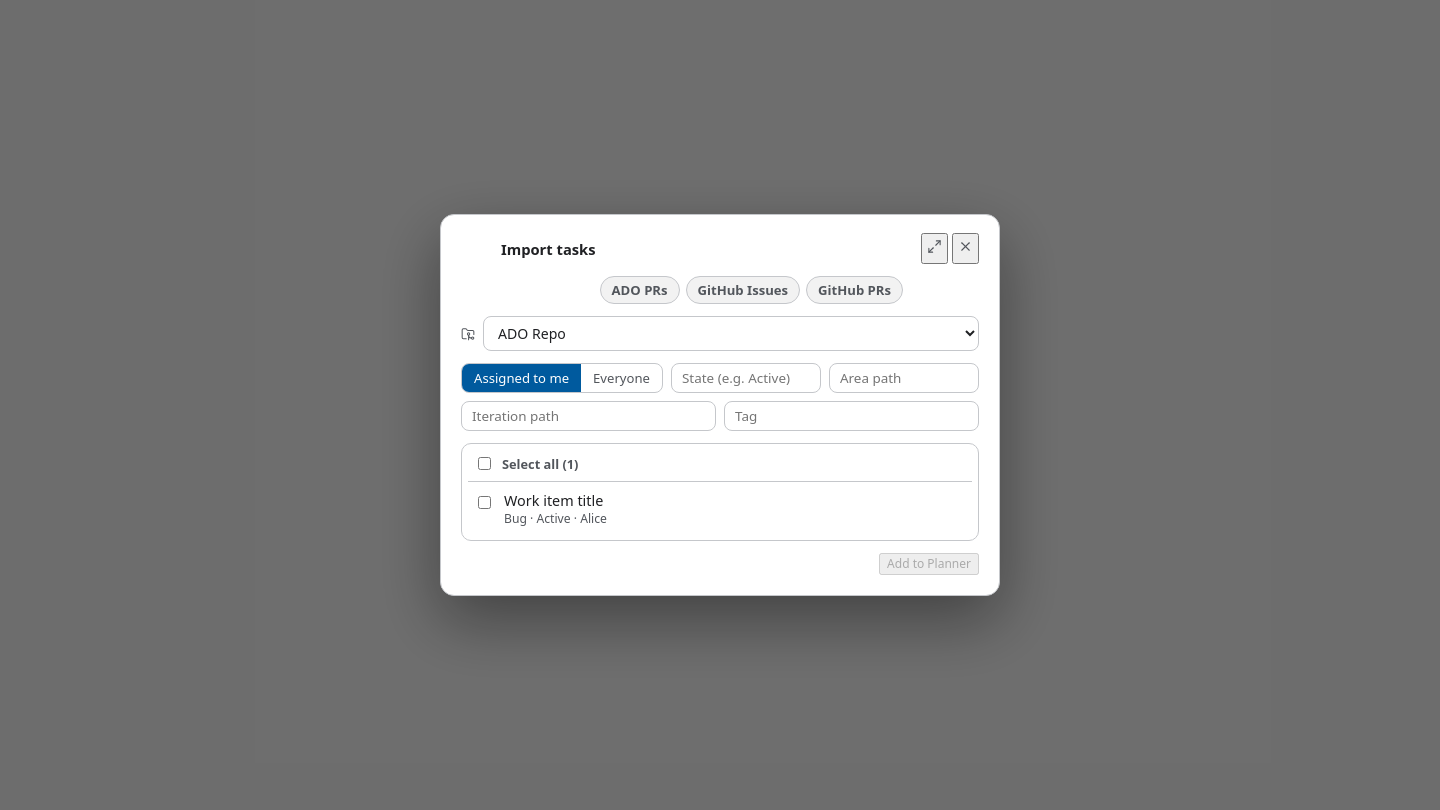
Test case: PlannerImportDialog › switches to GitHub issues and uses the github repo
This screenshot has width=1440, height=810.
Expected: the text "Work item title" is shown, [504, 493, 607, 509]
Click the tab "GitHub Issues": (743, 290) [686, 276, 800, 304]
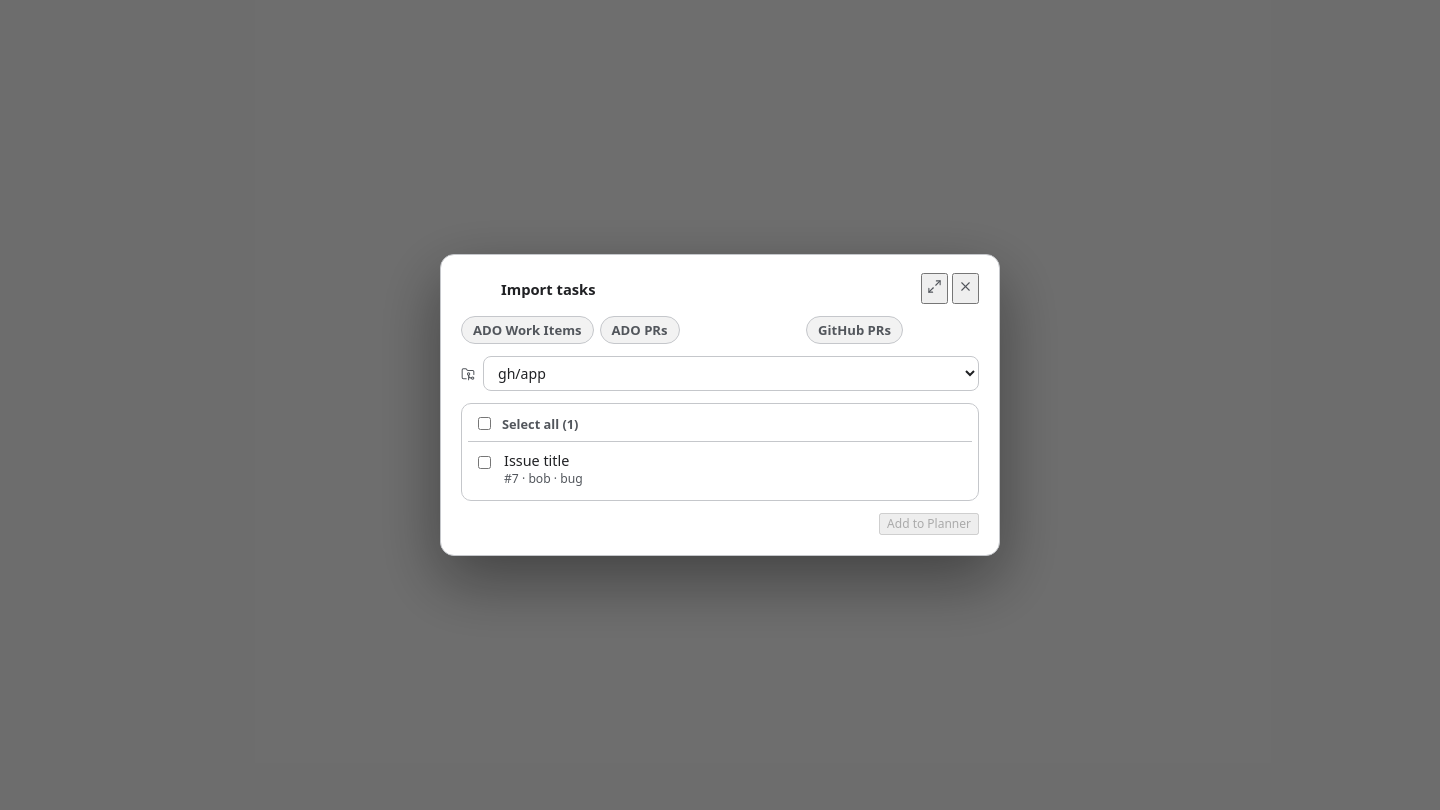
Expected: the text "Issue title" is shown, [504, 451, 569, 470]
